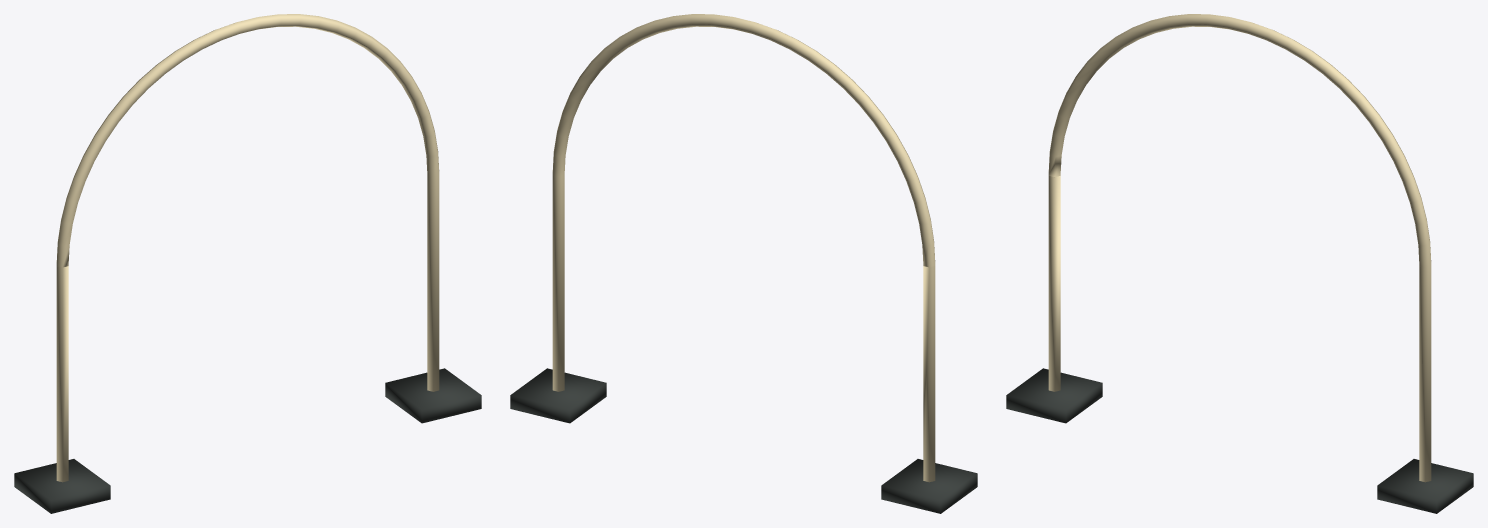
File: portal-arch.glb
3 views of the same model, side by side, from view 1: azimuth 30°, elevation 25°; view 2: azimuth 150°, elevation 25°; view 3: azimuth 330°, elevation 25° (orthographic).
Parts seen in each view (by area): view 1: arch-frame-0, feet-1; view 2: arch-frame-0, feet-1; view 3: arch-frame-0, feet-1.
Part boxes in pixels (bbox=[...]): arch-frame-0: bbox=[56, 14, 439, 482]; feet-1: bbox=[14, 368, 481, 513]; arch-frame-0: bbox=[552, 14, 935, 482]; feet-1: bbox=[510, 368, 977, 513]; arch-frame-0: bbox=[1048, 14, 1431, 482]; feet-1: bbox=[1006, 368, 1473, 513].
Size of the model in its own units: 3.25 by 3.09 by 0.48.
